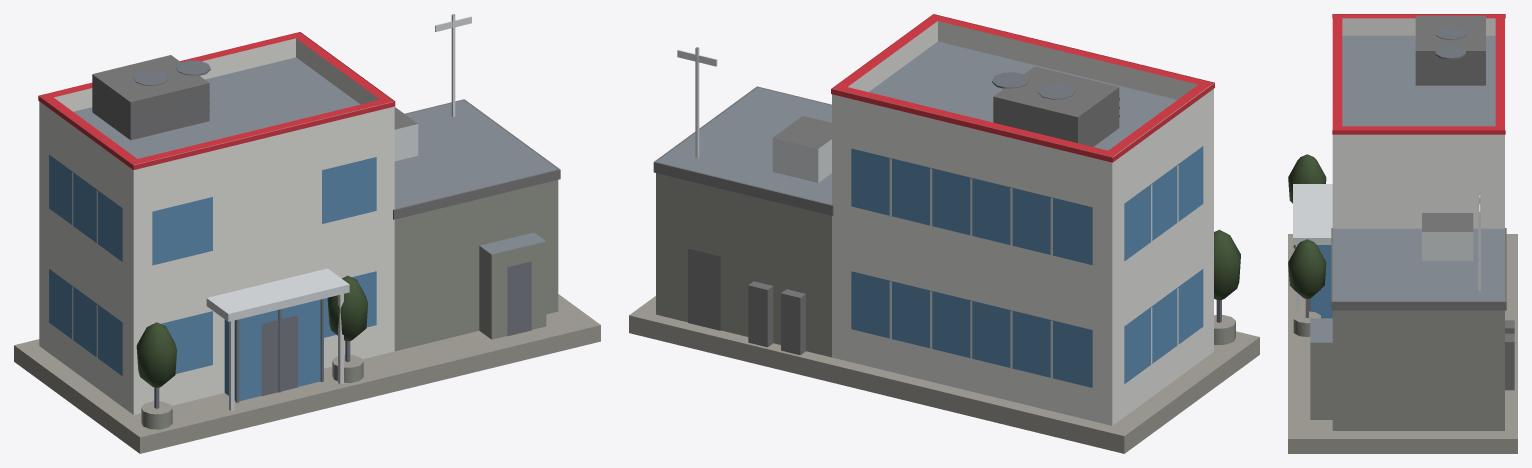
Rendered from mashup-admin-top-prebuilt_close.fbx.
The picture shows the model from 3 angles, left to right: view 1: azimuth 30°, elevation 25°; view 2: azimuth 150°, elevation 25°; view 3: azimuth 270°, elevation 25°; orthographic projection. The views are drawn at different scales.
Visible parts, largest first — view 1: a1018/0/mashup-admin-top-prebuilt_close; view 2: a1018/0/mashup-admin-top-prebuilt_close; view 3: a1018/0/mashup-admin-top-prebuilt_close.
Part boxes in pixels (x1,y1,x2,y2): a1018/0/mashup-admin-top-prebuilt_close: (14, 14, 600, 453); a1018/0/mashup-admin-top-prebuilt_close: (629, 14, 1259, 453); a1018/0/mashup-admin-top-prebuilt_close: (1288, 14, 1517, 453).
Bounding box in the file's own units: 15.2 × 9.02 × 7.2.
